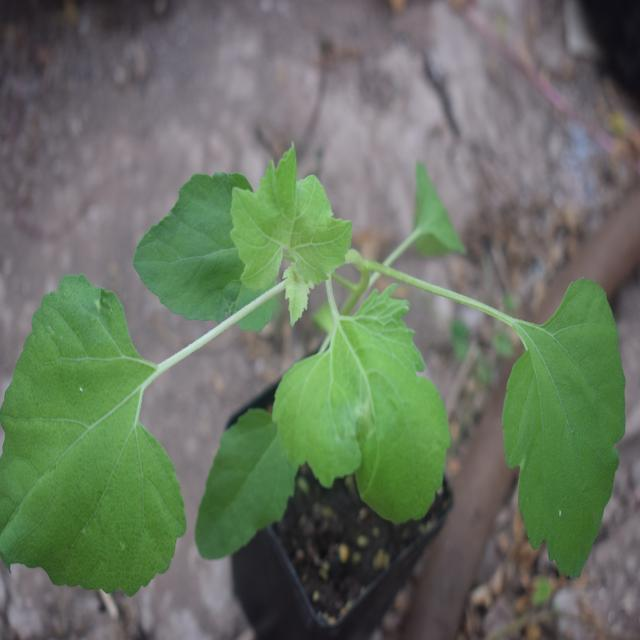cocklebur: (14, 177, 623, 588)
